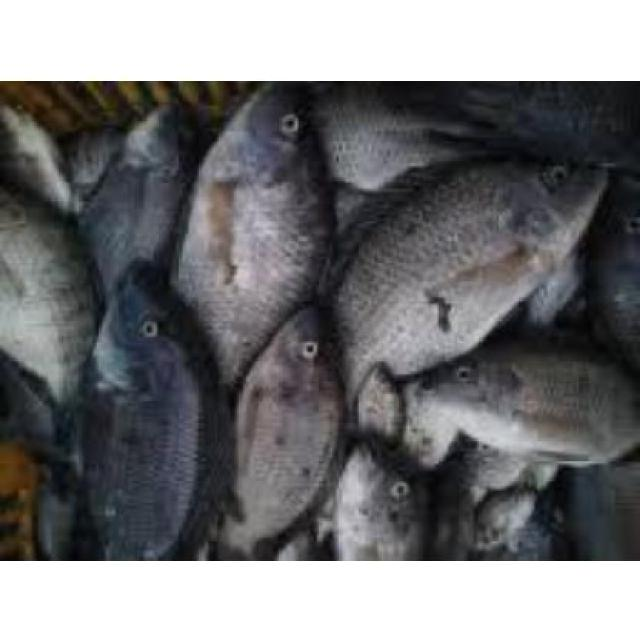ikan-pacu: (98, 258, 224, 557), (184, 80, 320, 348), (222, 310, 344, 558), (434, 346, 640, 469)
